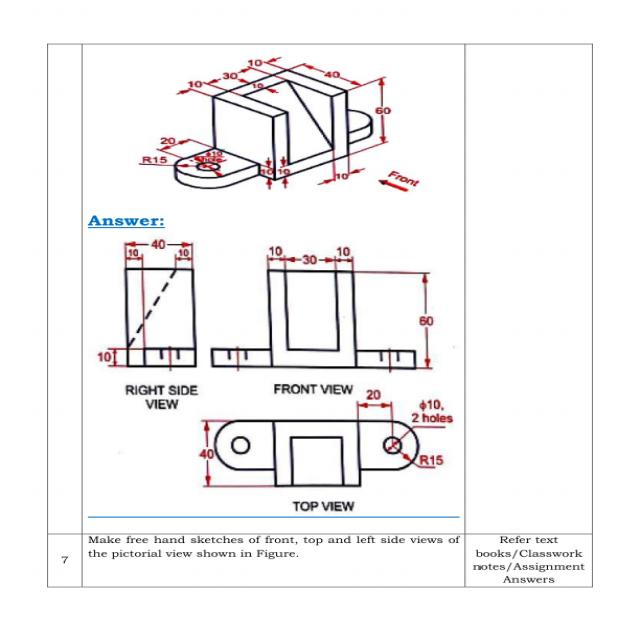Drawings: (134, 54, 393, 194), (207, 243, 438, 378), (200, 410, 456, 492), (93, 236, 203, 374)
